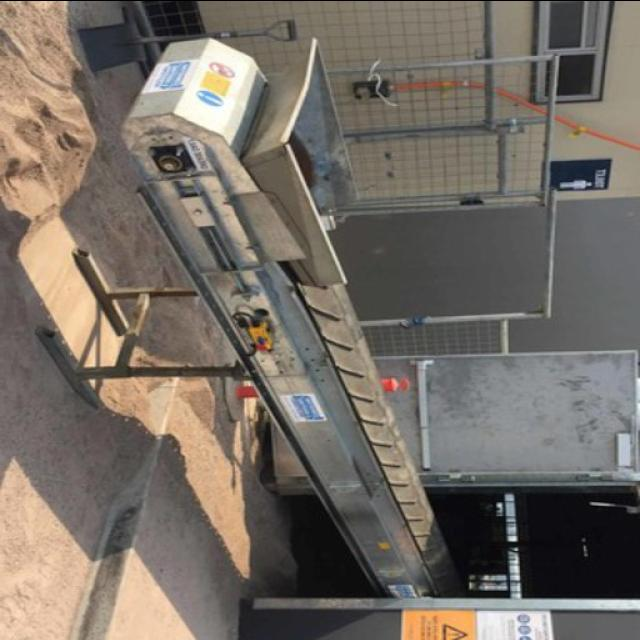conveyor: (280, 38, 457, 586)
